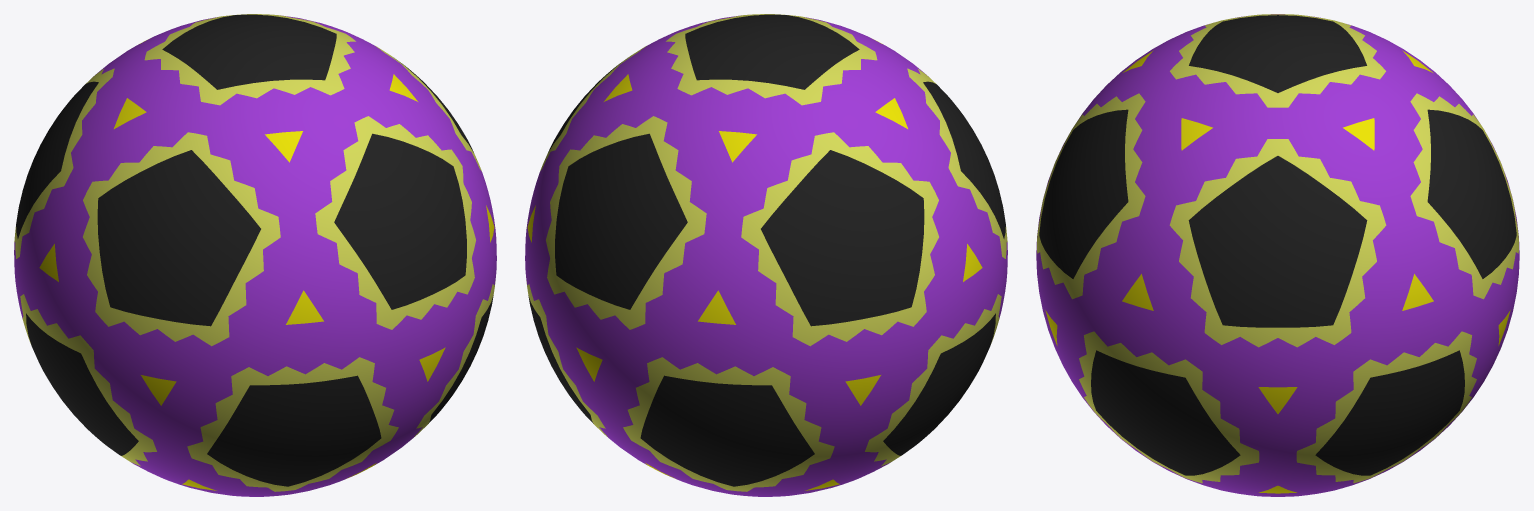
Rendered from Skins Pelota2.fbx.
3 views of the same model, side by side, from view 1: azimuth 30°, elevation 25°; view 2: azimuth 150°, elevation 25°; view 3: azimuth 270°, elevation 25° (orthographic).
Parts seen in each view (by area): view 1: Icosphere.002; view 2: Icosphere.002; view 3: Icosphere.002.
Part boxes in pixels (<box>): Icosphere.002: <box>14,14,496,496</box>; Icosphere.002: <box>525,14,1007,496</box>; Icosphere.002: <box>1036,14,1519,496</box>.
Bounding box in the file's own units: 199 × 199 × 199.
